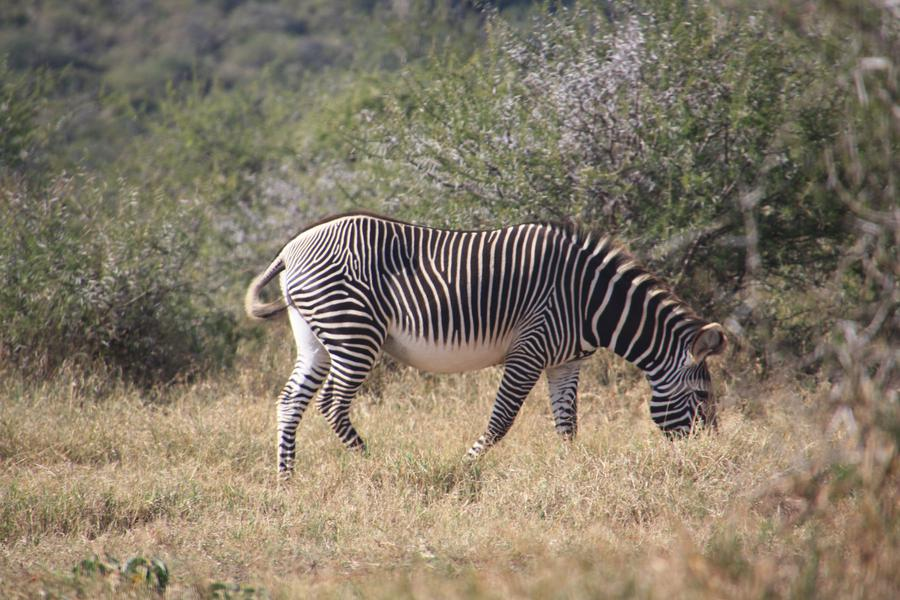zebra_grevys: (281, 213, 580, 366)
